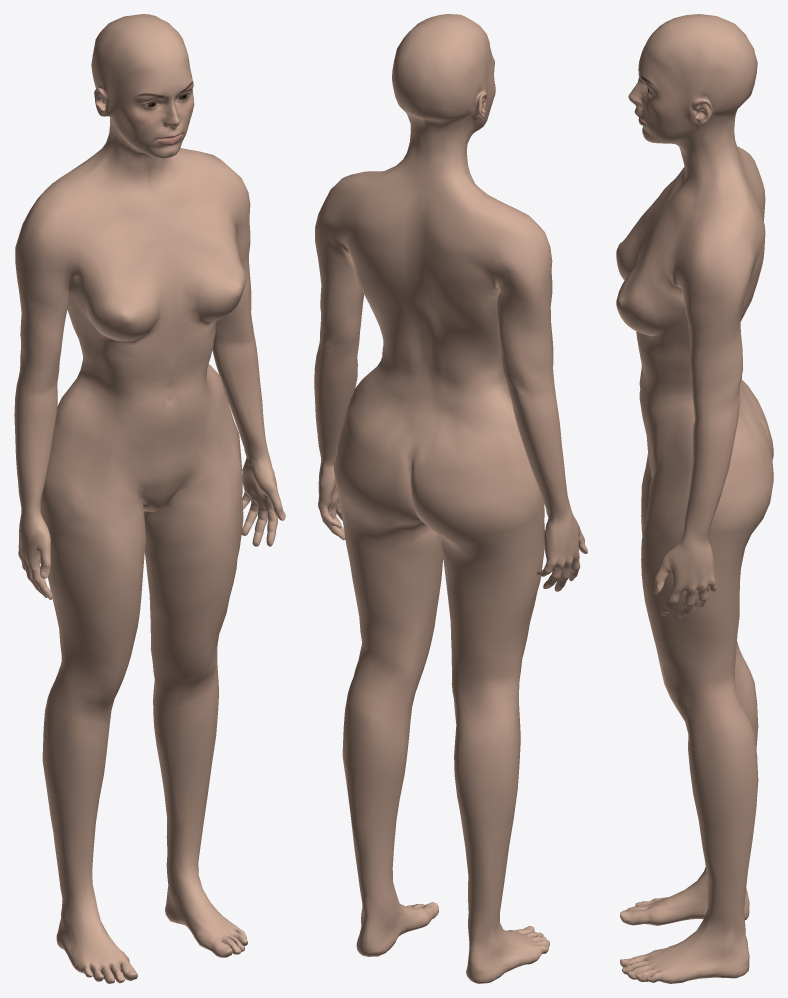
The model's file is woman_spanish_v4.glb.
3 views of the same model, side by side, from view 1: azimuth 30°, elevation 25°; view 2: azimuth 150°, elevation 25°; view 3: azimuth 270°, elevation 25° (orthographic).
Visible parts, largest first — view 1: basemesh_female_body, face_blink; view 2: basemesh_female_body; view 3: basemesh_female_body, face_blink.
Boxes of the visible parts, left/top/right/bottom form: basemesh_female_body: left=14, top=14, right=285, bottom=983; face_blink: left=108, top=58, right=194, bottom=132; basemesh_female_body: left=314, top=14, right=587, bottom=983; basemesh_female_body: left=616, top=14, right=773, bottom=983; face_blink: left=628, top=53, right=692, bottom=125.
Size of the model in its own units: 0.4645 by 1.65 by 0.2536.
Materials: 3 (2 with a texture image).
